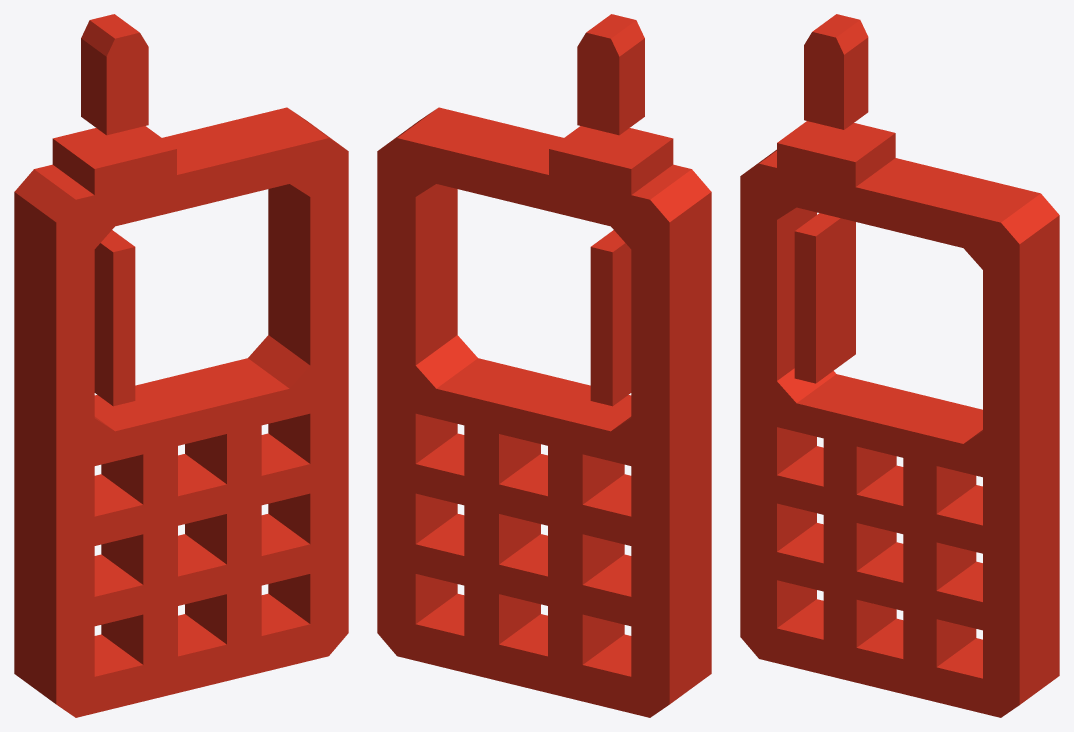
Rendered from Icon_Telephone_01.fbx.
3 renders of one model, left to right at view 1: azimuth 30°, elevation 25°; view 2: azimuth 150°, elevation 25°; view 3: azimuth 330°, elevation 25°, orthographic. The views are drawn at different scales.
Visible parts, largest first — view 1: Icon_Telephone_01; view 2: Icon_Telephone_01; view 3: Icon_Telephone_01.
Part boxes in pixels (x1,y1,x2,y2): Icon_Telephone_01: [14, 14, 348, 717]; Icon_Telephone_01: [377, 14, 711, 717]; Icon_Telephone_01: [740, 14, 1059, 717].
Bounding box in the file's own units: 37.14 × 80.36 × 9.21.
